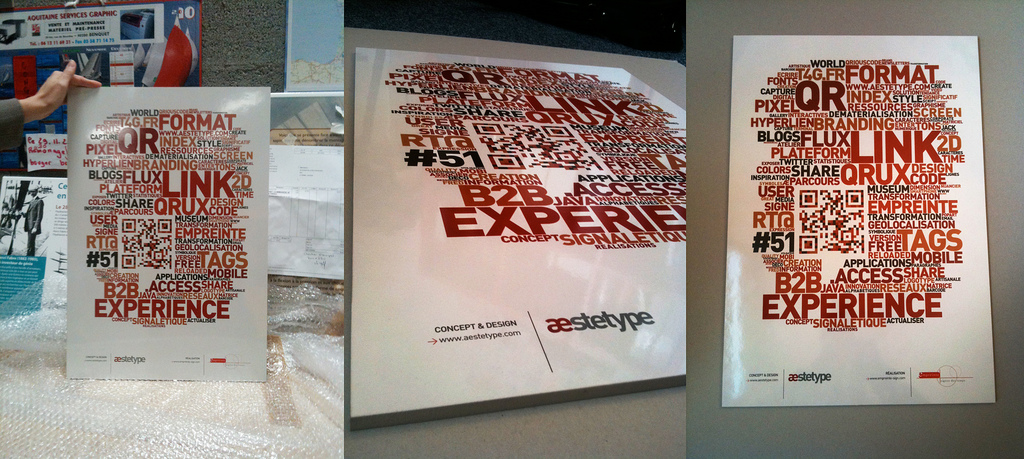QR-CODE: (471, 123, 604, 170), (799, 190, 864, 253), (121, 219, 171, 268)
